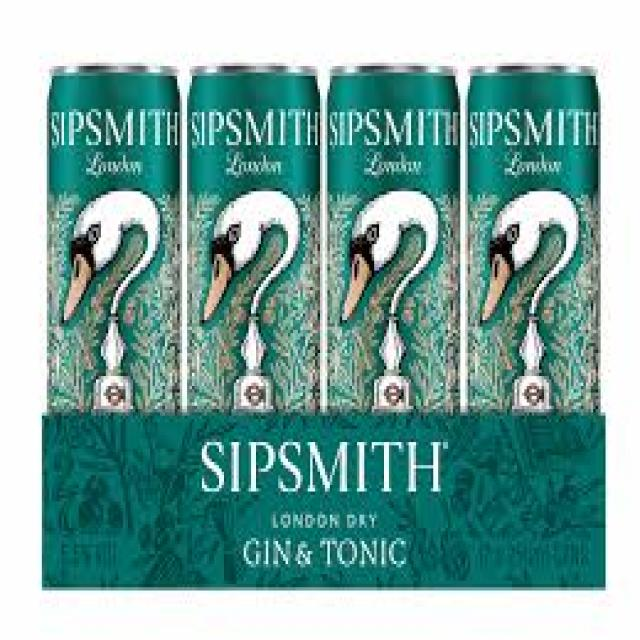Cans: (39, 59, 182, 426), (182, 50, 323, 422), (320, 53, 463, 419), (460, 59, 603, 419)
